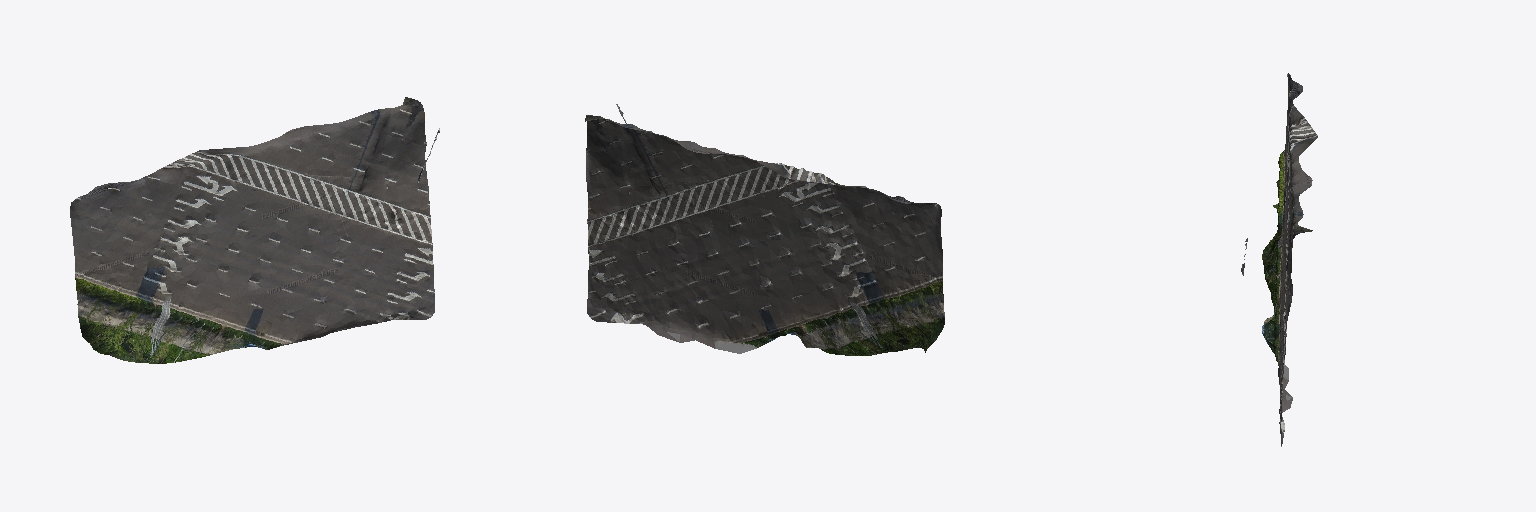
The picture shows the model from 3 angles: view 1: azimuth 30°, elevation 25°; view 2: azimuth 150°, elevation 25°; view 3: azimuth 270°, elevation 25°; orthographic projection.
Size of the model in its own units: 60.89 by 34.48 by 11.35.
Materials: 2 (1 with a texture image).